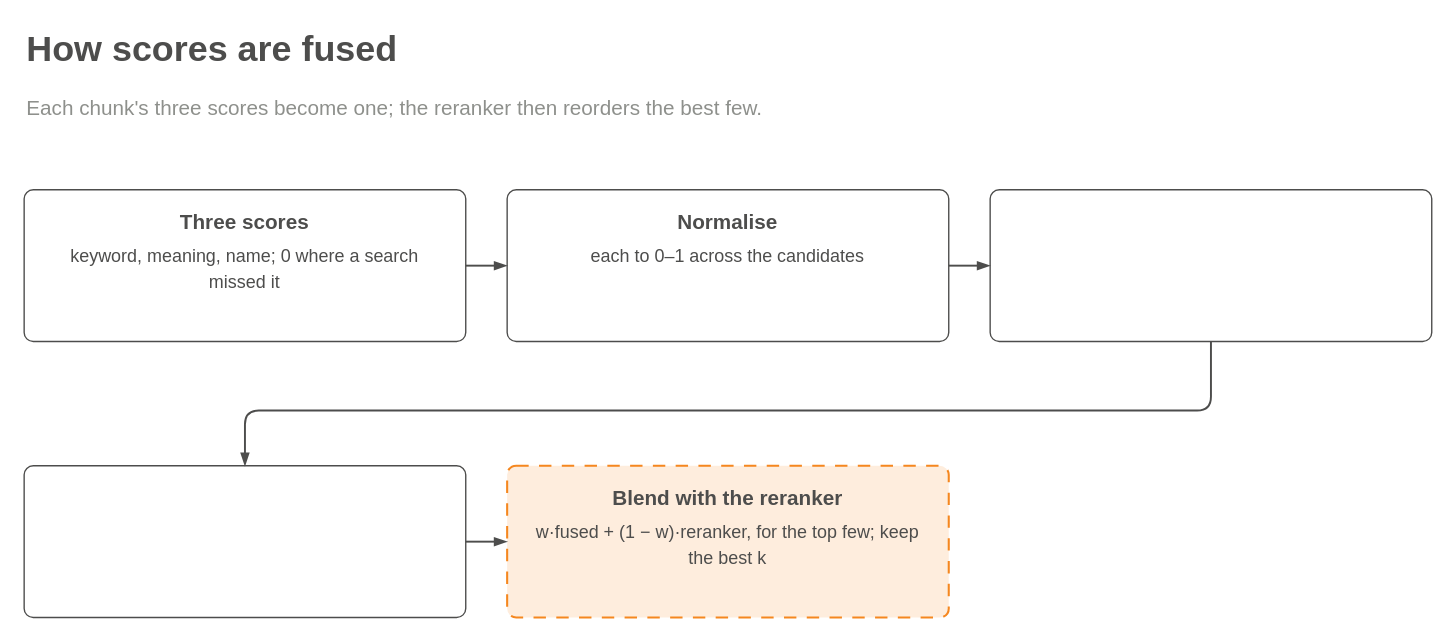
This 1456x642 diagram has some shape labels left out. The shapes that lost their labels are listed below. From the top down, each one's centre as x and y in pixels, then its label:
At (x=1210, y=265): "Weigh α·meaning + β·keyword + γ·name; α, β, γ by query kind".
At (x=244, y=541): "Multiply × kind × file × importance × proximity".
